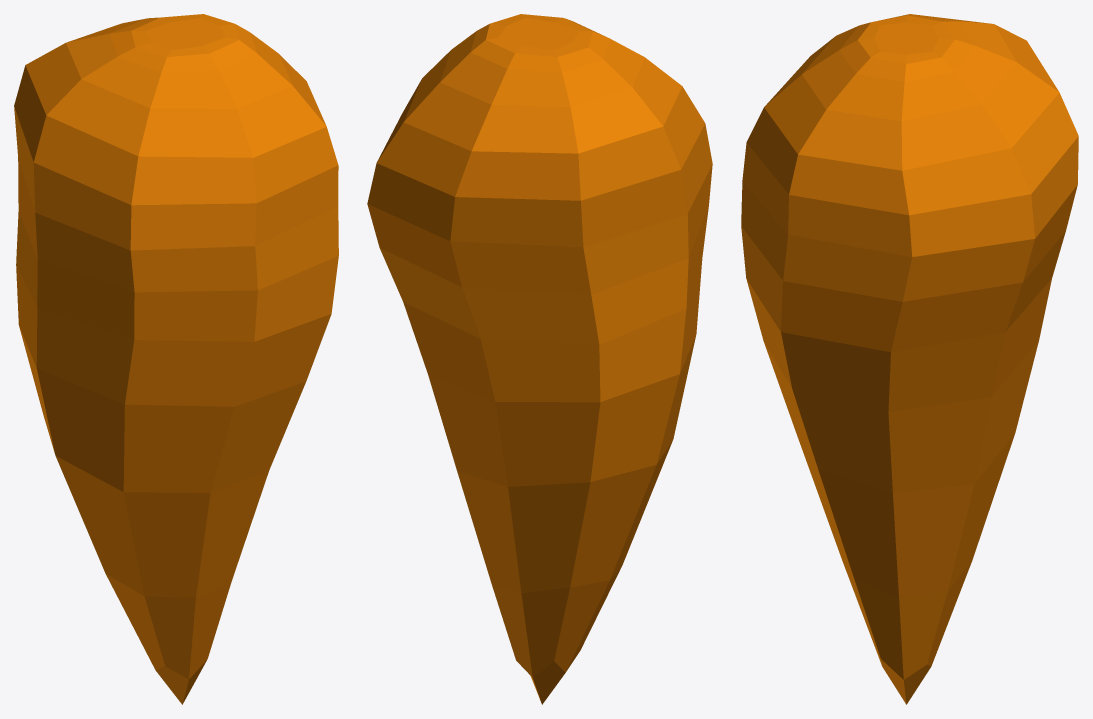
Rendered from carrot_growth_1_var1.glb.
3 renders of one model, left to right at view 1: azimuth 30°, elevation 25°; view 2: azimuth 150°, elevation 25°; view 3: azimuth 270°, elevation 25°, orthographic.
Visible parts, largest first — view 1: carrotbody.002; view 2: carrotbody.002; view 3: carrotbody.002.
Part boxes in pixels (x1,y1,x2,y2): carrotbody.002: [14, 14, 338, 704]; carrotbody.002: [367, 14, 712, 704]; carrotbody.002: [741, 14, 1078, 704].
Size of the model in its own units: 0.4063 by 0.899 by 0.4119.
